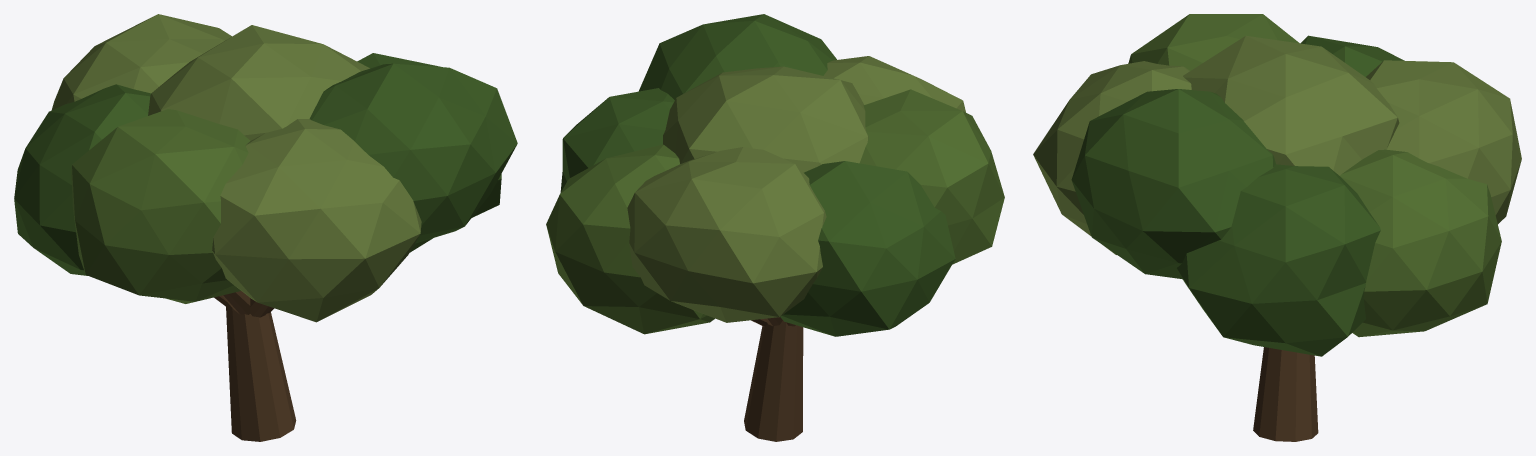
Rendered from tree_olive.glb.
3 renders of one model, left to right at view 1: azimuth 30°, elevation 25°; view 2: azimuth 150°, elevation 25°; view 3: azimuth 270°, elevation 25°, orthographic. The views are drawn at different scales.
Parts seen in each view (by area): view 1: Foliage crown.005, Foliage crown.004, Foliage crown.006, Foliage crown.007, Foliage crown.003, Foliage crown.002, Bark branch, Foliage crown; view 2: Foliage crown.002, Foliage crown.003, Foliage crown.007, Foliage crown.001, Foliage crown.004, Foliage crown.006, Foliage crown, Bark branch, Foliage crown.005; view 3: Foliage crown, Foliage crown.006, Foliage crown.001, Foliage crown.007, Foliage crown.002, Foliage crown.005, Bark branch, Foliage crown.004, Foliage crown.003.
Boxes of the visible parts, <box> form: Foliage crown.005: <box>212,119,421,322</box>; Foliage crown.004: <box>71,109,250,303</box>; Foliage crown.006: <box>309,63,517,243</box>; Foliage crown.007: <box>148,25,369,140</box>; Foliage crown.003: <box>14,84,151,275</box>; Foliage crown.002: <box>52,14,231,109</box>; Bark branch: <box>226,305,296,441</box>; Foliage crown: <box>357,53,501,252</box>; Foliage crown.002: <box>627,147,826,322</box>; Foliage crown.003: <box>780,161,955,336</box>; Foliage crown.007: <box>663,66,868,172</box>; Foliage crown.001: <box>546,144,714,334</box>; Foliage crown.004: <box>860,89,1004,264</box>; Foliage crown.006: <box>638,14,836,99</box>; Foliage crown: <box>560,88,674,192</box>; Bark branch: <box>744,320,803,441</box>; Foliage crown.005: <box>823,56,965,112</box>; Foliage crown: <box>1177,164,1380,356</box>; Foliage crown.006: <box>1071,89,1275,279</box>; Foliage crown.001: <box>1340,149,1501,337</box>; Foliage crown.007: <box>1183,35,1399,175</box>; Foliage crown.002: <box>1366,60,1521,223</box>; Foliage crown.005: <box>1033,61,1191,254</box>; Bark branch: <box>1253,347,1318,441</box>; Foliage crown.004: <box>1128,14,1299,70</box>; Foliage crown.003: <box>1300,35,1404,76</box>.
Bounding box in the file's own units: 845 × 724 × 838.
